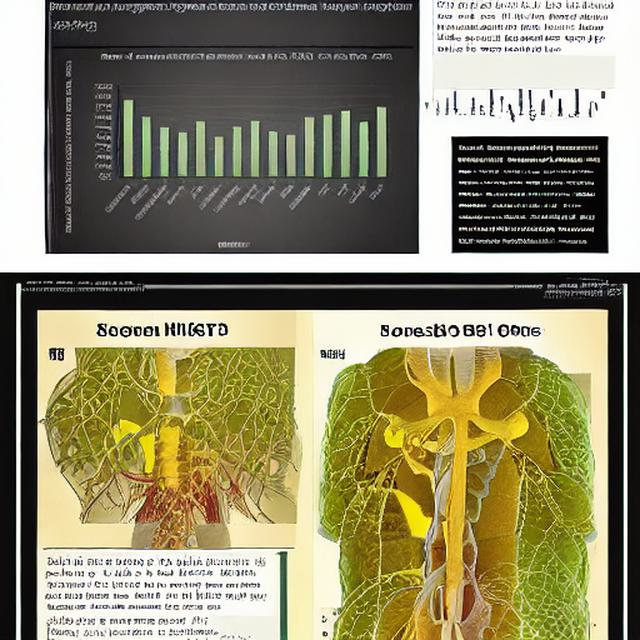Graph: (61, 47, 397, 254), (425, 84, 478, 119)
